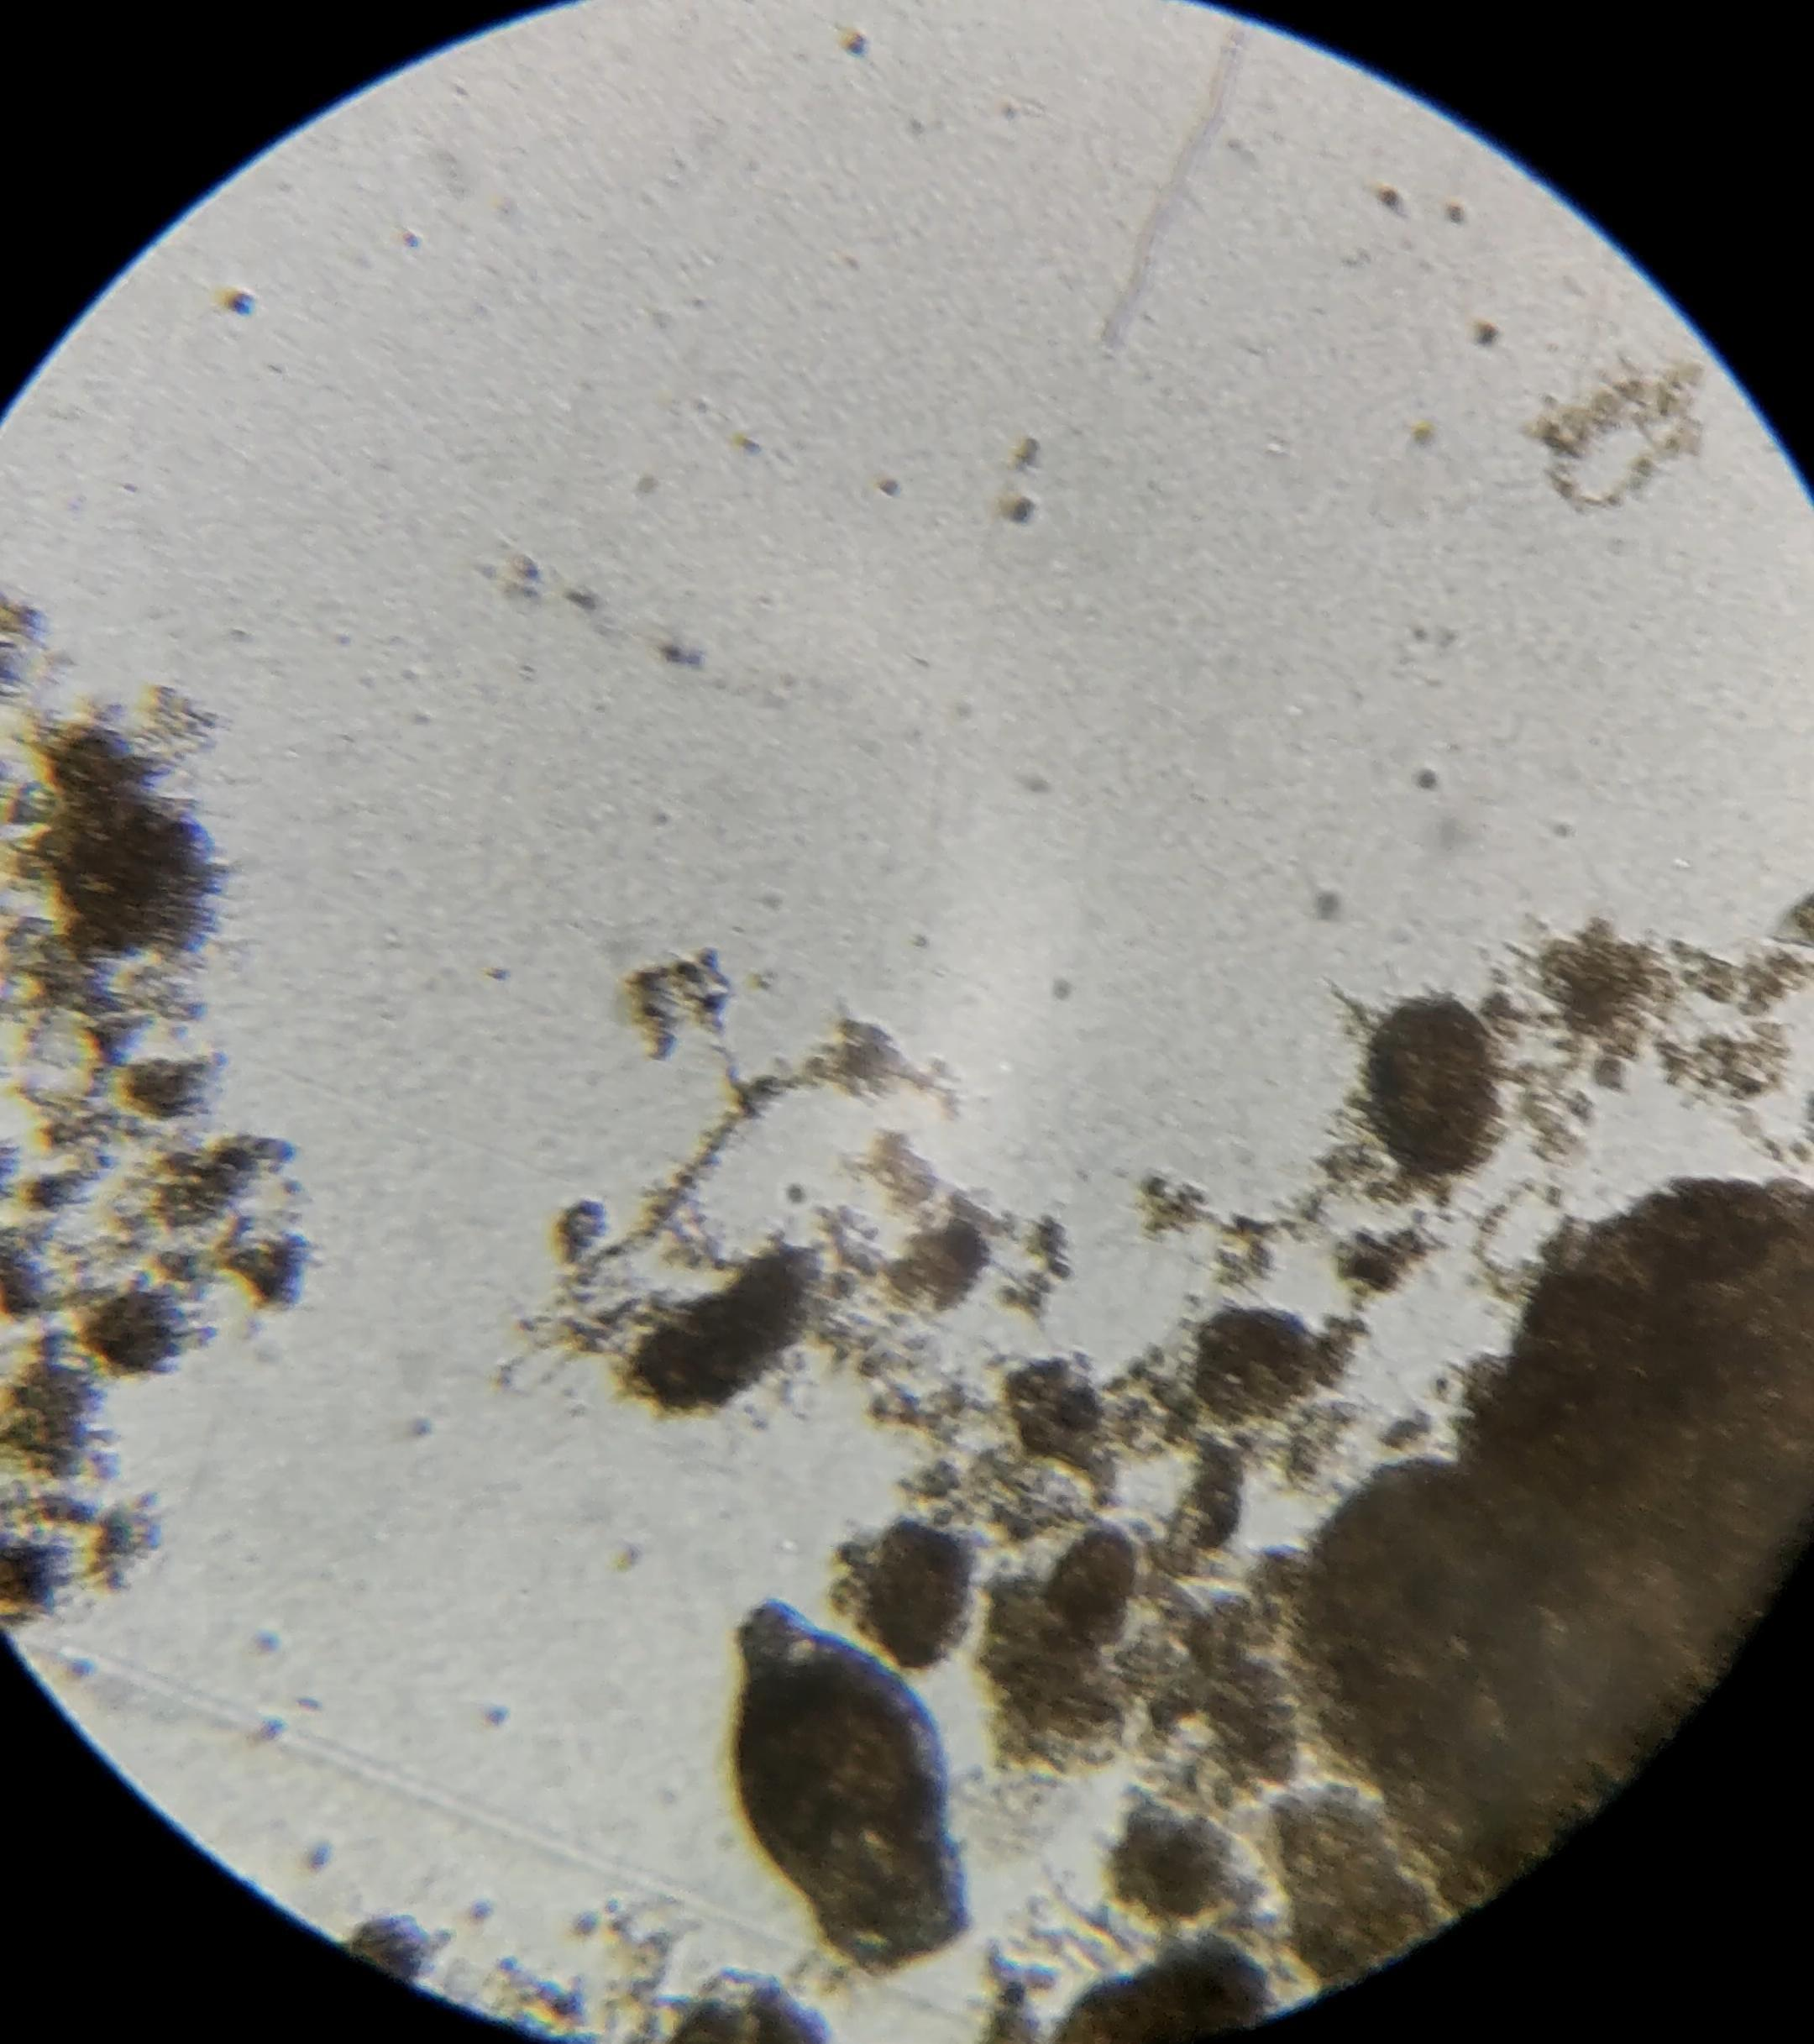Do: (735, 1599, 972, 1976)
